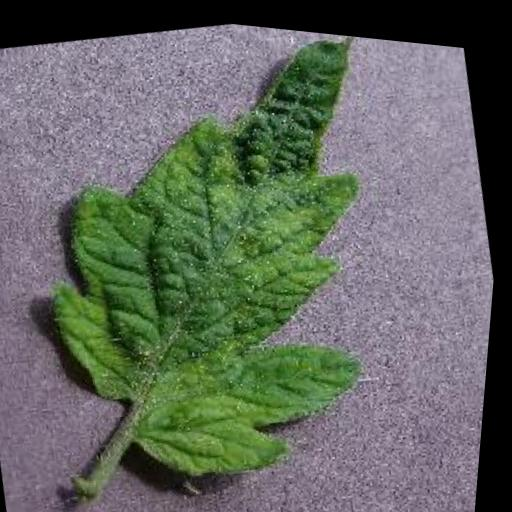Mosaic Virus: (0, 2, 446, 512)
